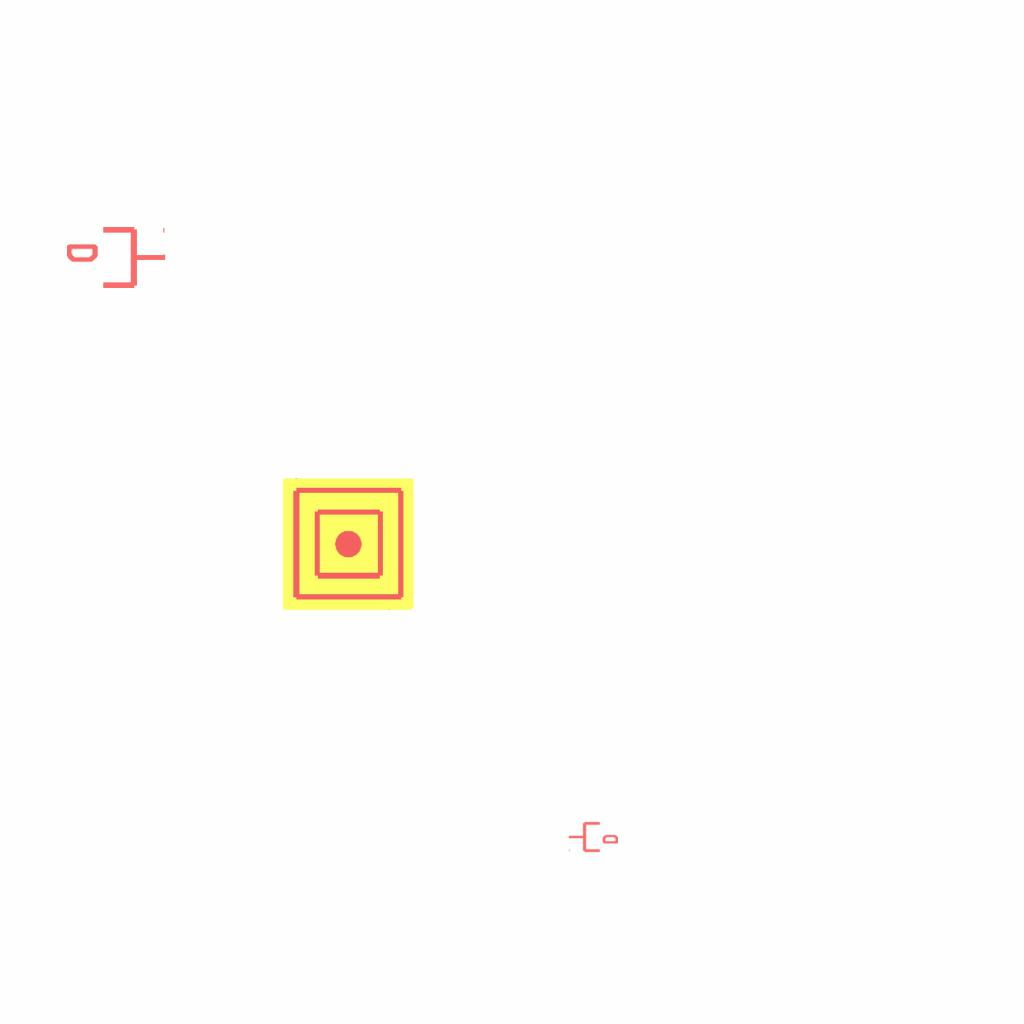Datenanschluss_einfach: (67, 223, 167, 292), (568, 820, 618, 854)
NAM-Nichtautomatischer_Melder: (282, 478, 414, 610)
